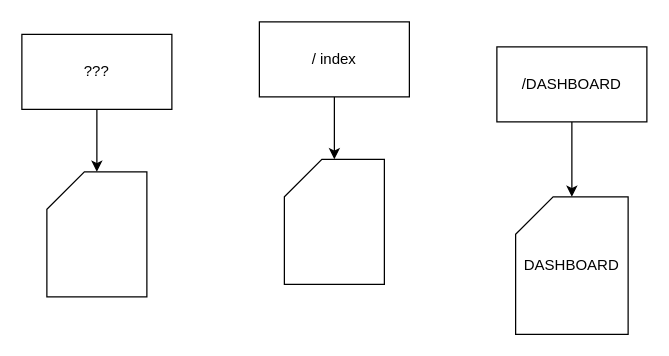
Image size: 669x356. Some labels were removed from this diagram. Each missing label, with the centre of its shape:
Login: point (333, 221)
NOT FOUND: point (96, 234)
